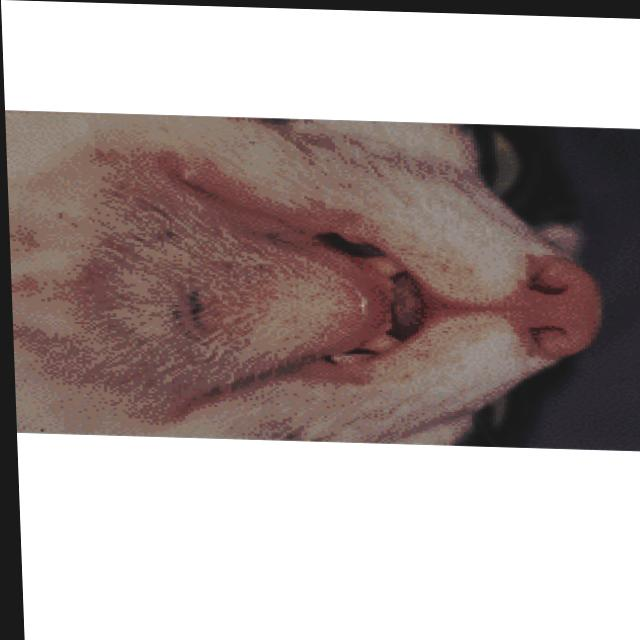acne: (160, 274, 215, 343)
